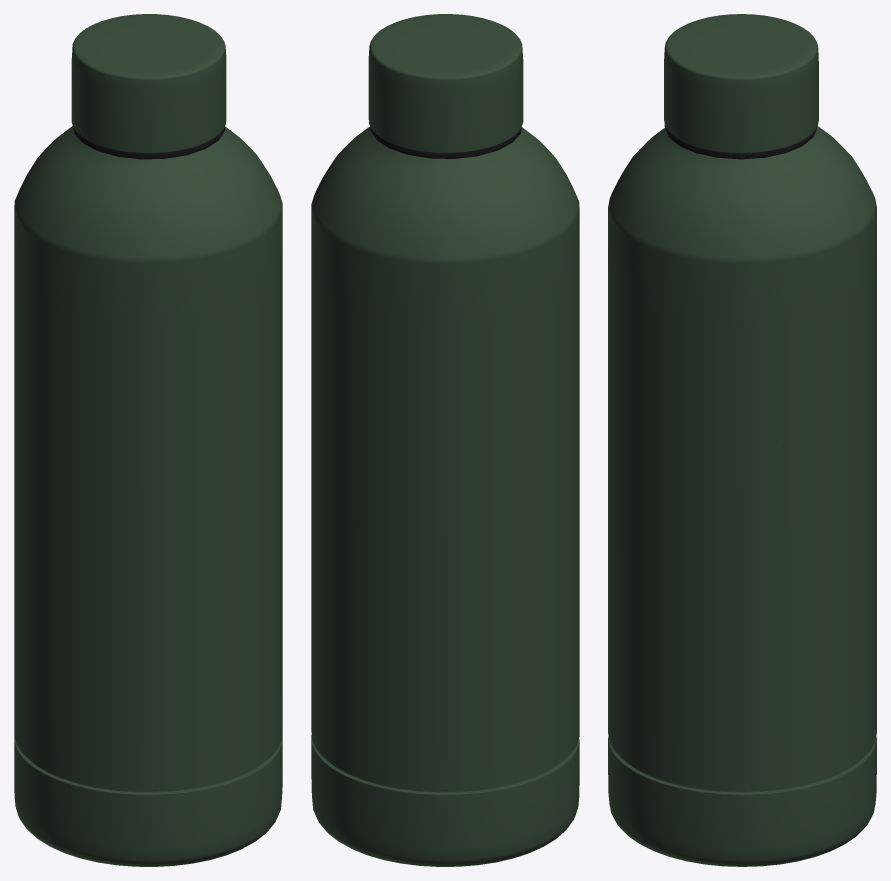
File: bottle.glb
3 renders of one model, left to right at view 1: azimuth 30°, elevation 25°; view 2: azimuth 150°, elevation 25°; view 3: azimuth 270°, elevation 25°, orthographic.
Parts seen in each view (by area): view 1: pCylinder4; view 2: pCylinder4; view 3: pCylinder4.
Part boxes in pixels (x1,y1,x2,y2): pCylinder4: (14, 14, 282, 866); pCylinder4: (311, 14, 579, 866); pCylinder4: (608, 14, 876, 866).
Bounding box in the file's own units: 0.0315 × 0.1 × 0.0315.
1 material, 1 textured.
